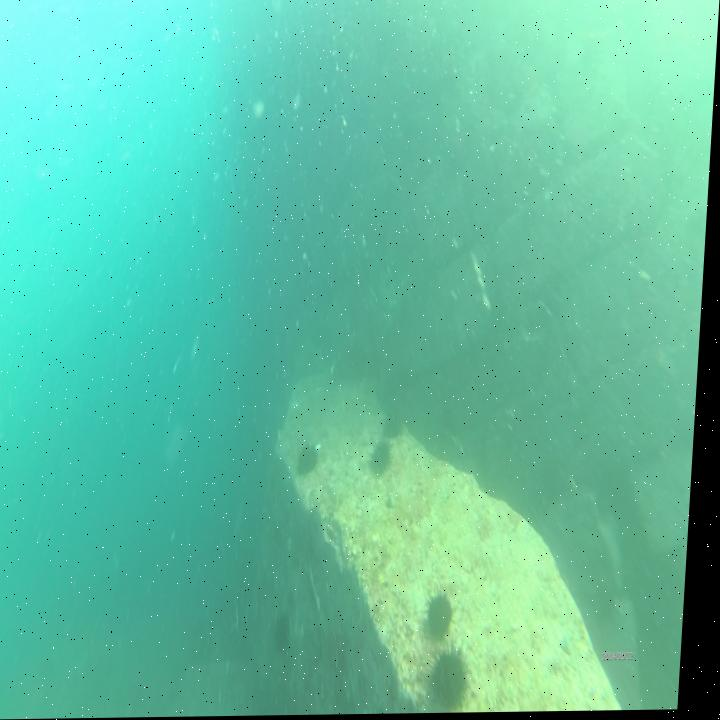echinus: (437, 645, 479, 711), (430, 593, 465, 637), (300, 441, 323, 479), (280, 613, 299, 650), (385, 413, 408, 439), (376, 445, 396, 474)
